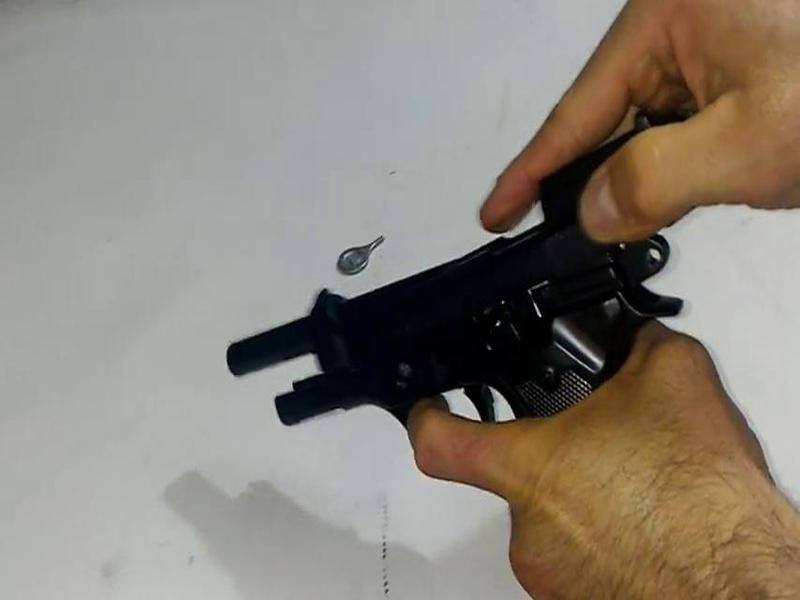Pistola: (185, 144, 747, 494)
